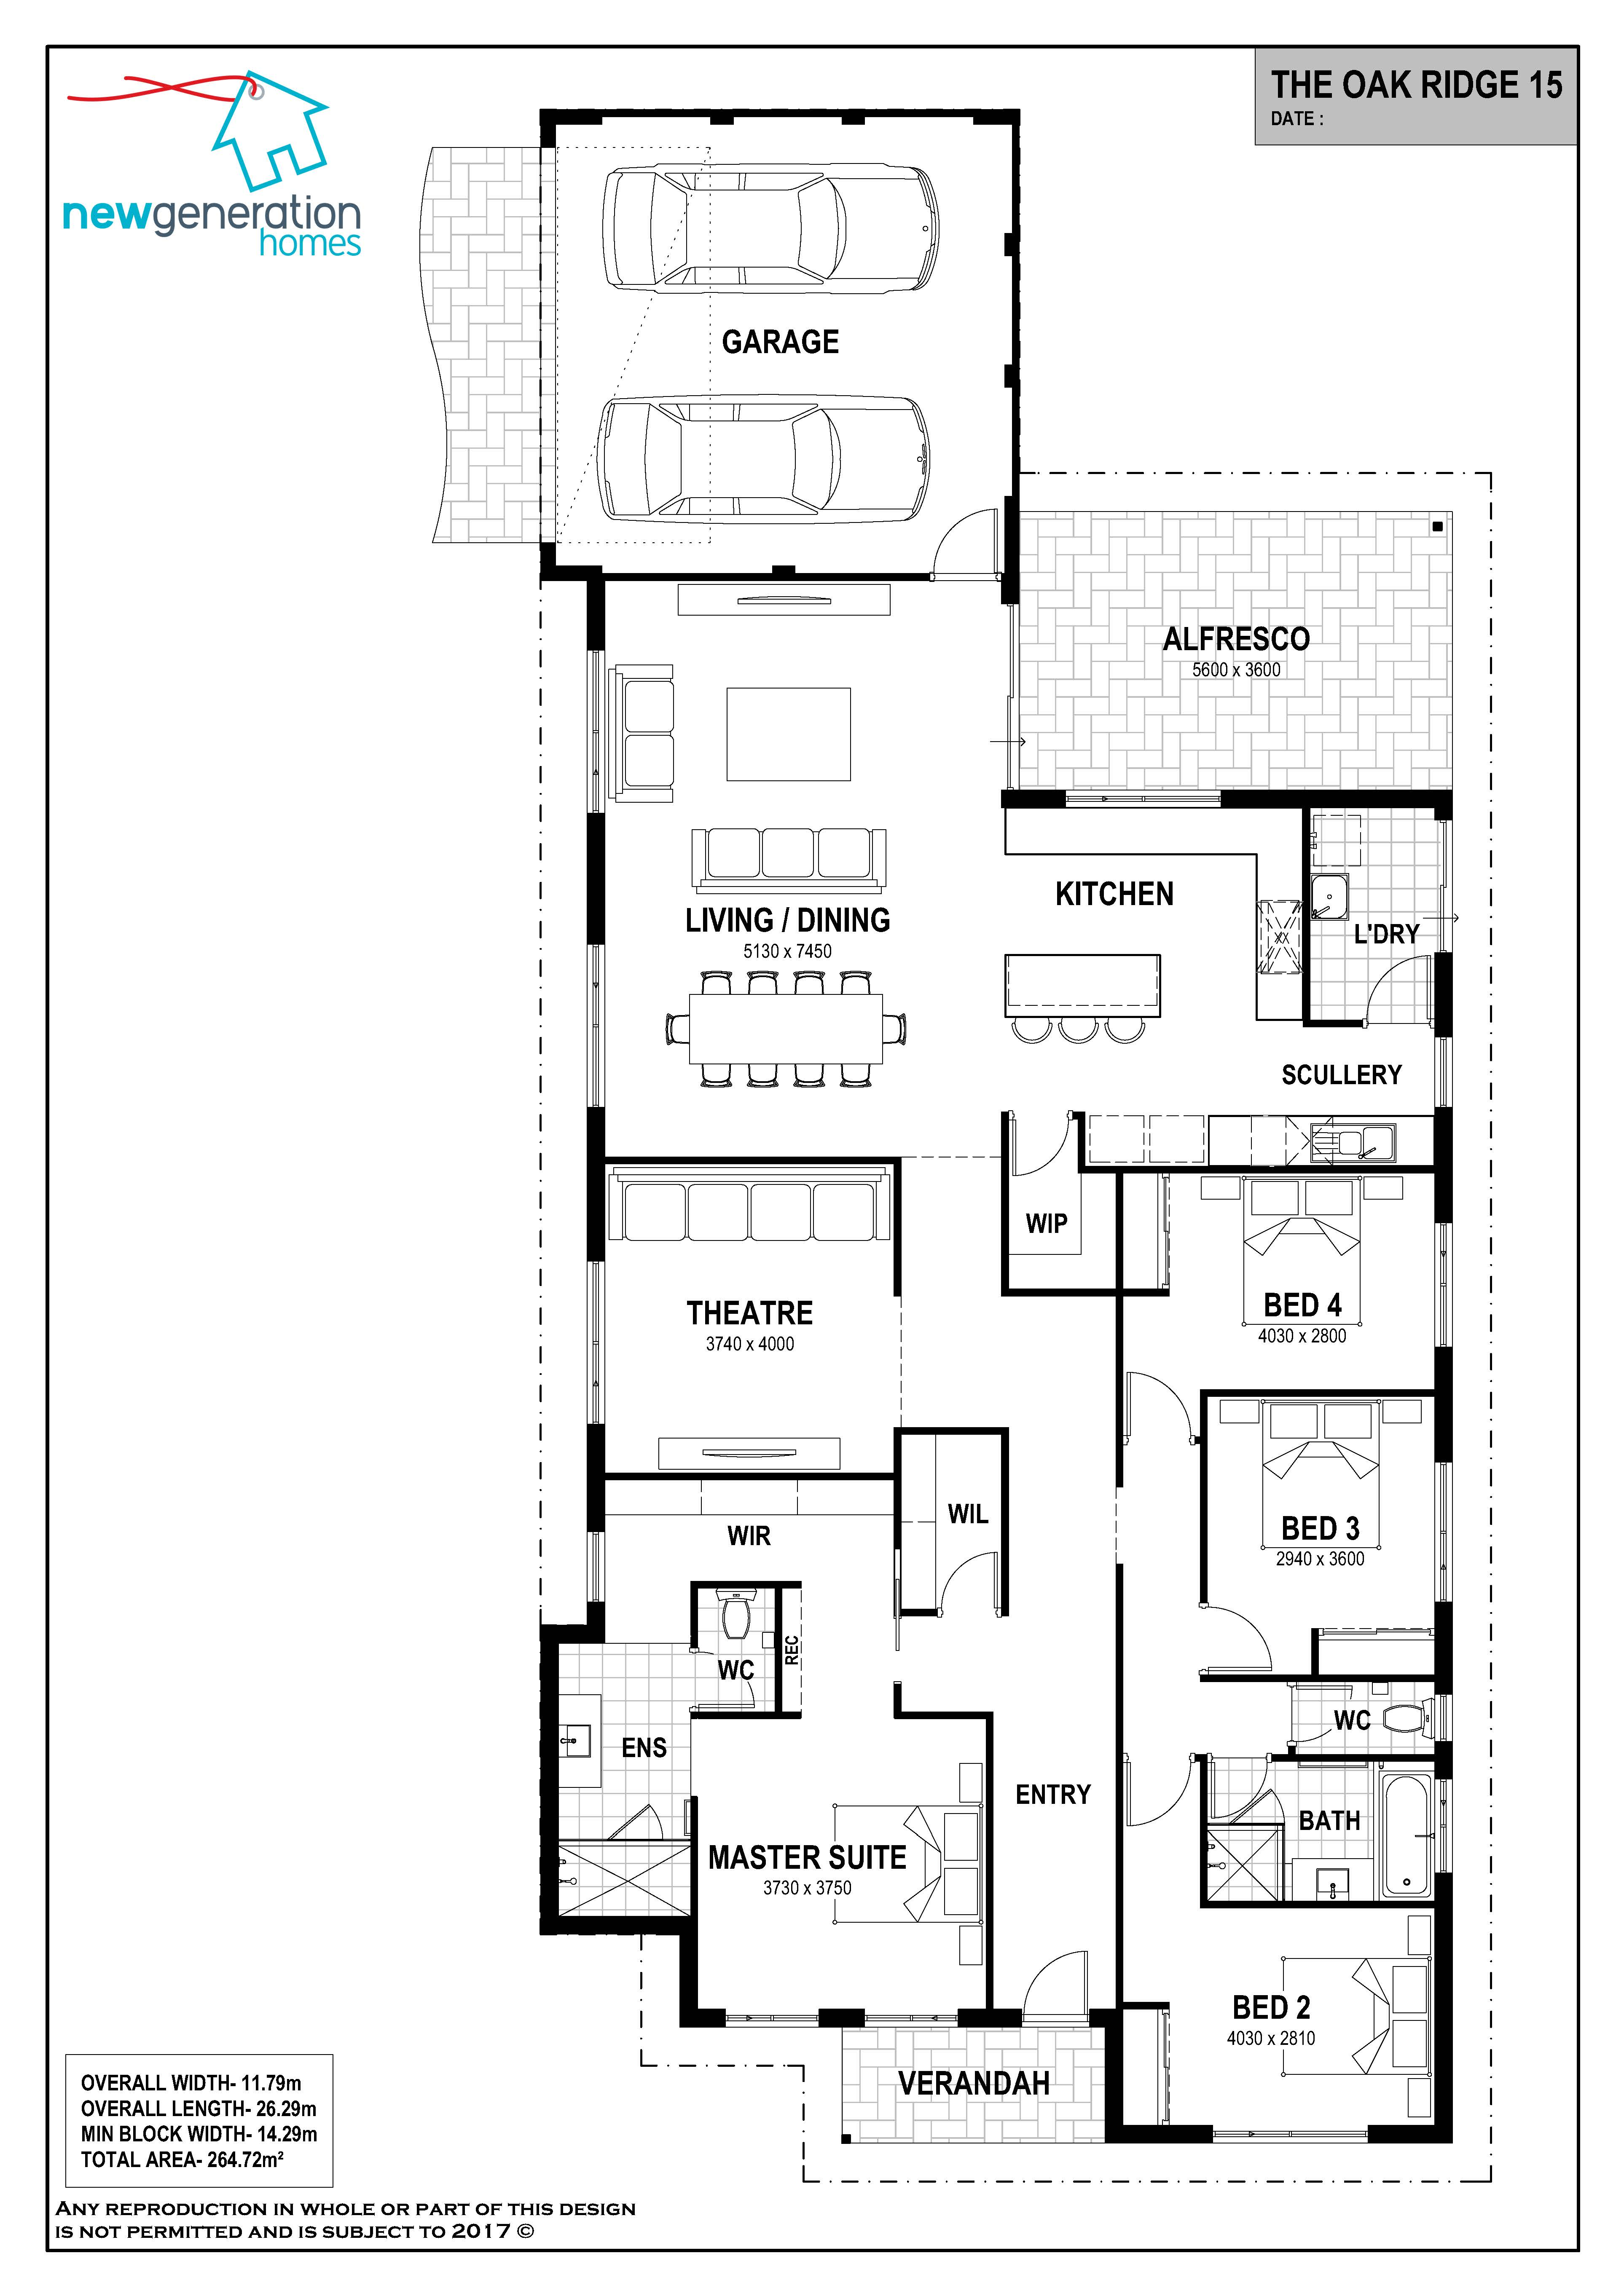window: (584, 648, 608, 819), (584, 940, 606, 1110), (585, 1258, 608, 1428), (1209, 2122, 1374, 2145), (1063, 787, 1225, 810), (1432, 1460, 1455, 1606), (1432, 1219, 1457, 1353), (859, 2003, 961, 2031), (722, 2003, 823, 2031), (1431, 1776, 1455, 1876), (1431, 1033, 1455, 1108), (585, 1528, 606, 1604), (1432, 1690, 1455, 1746)
